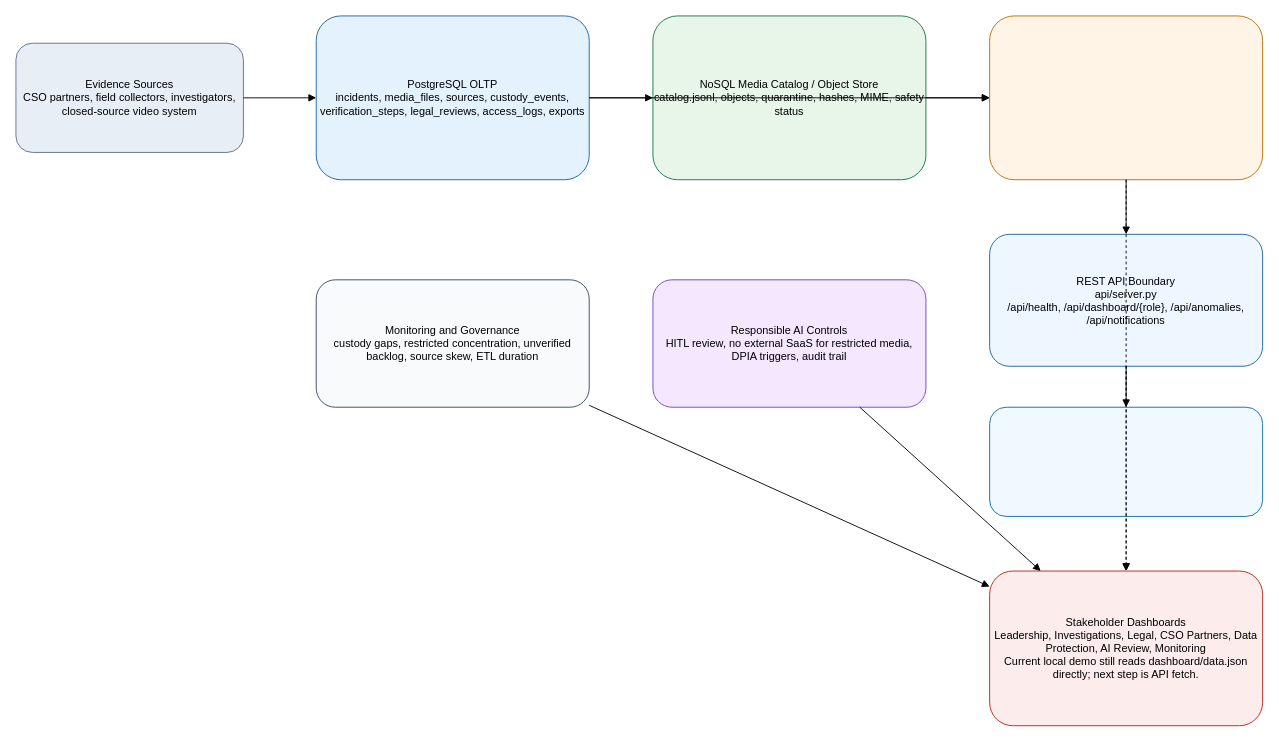
Some shapes in this 1279 by 742 pixel diagram are drawn without their labels. The box of each missing label's shape, as (x1, y1, x2, y2) in pixels:
DuckDB OLAP evidence_fact, reporting snapshot, dashboard/data.json: (989, 15, 1263, 180)
OpenAPI Contract and API Docs api/openapi.py /api/openapi.json, /api/docs: (989, 406, 1263, 516)
